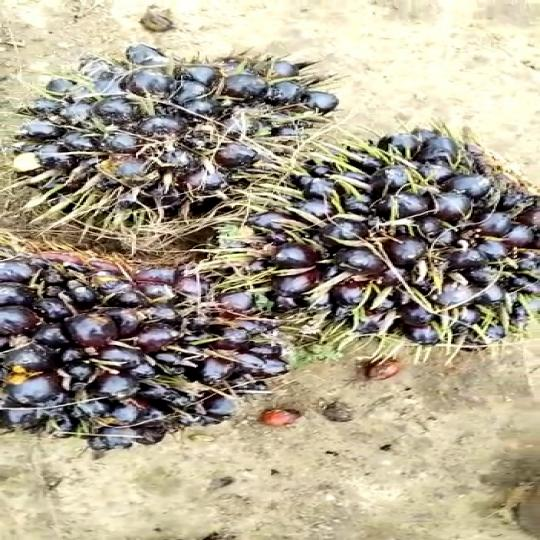mentah: (239, 124, 540, 351), (10, 29, 318, 248), (0, 250, 313, 460)
